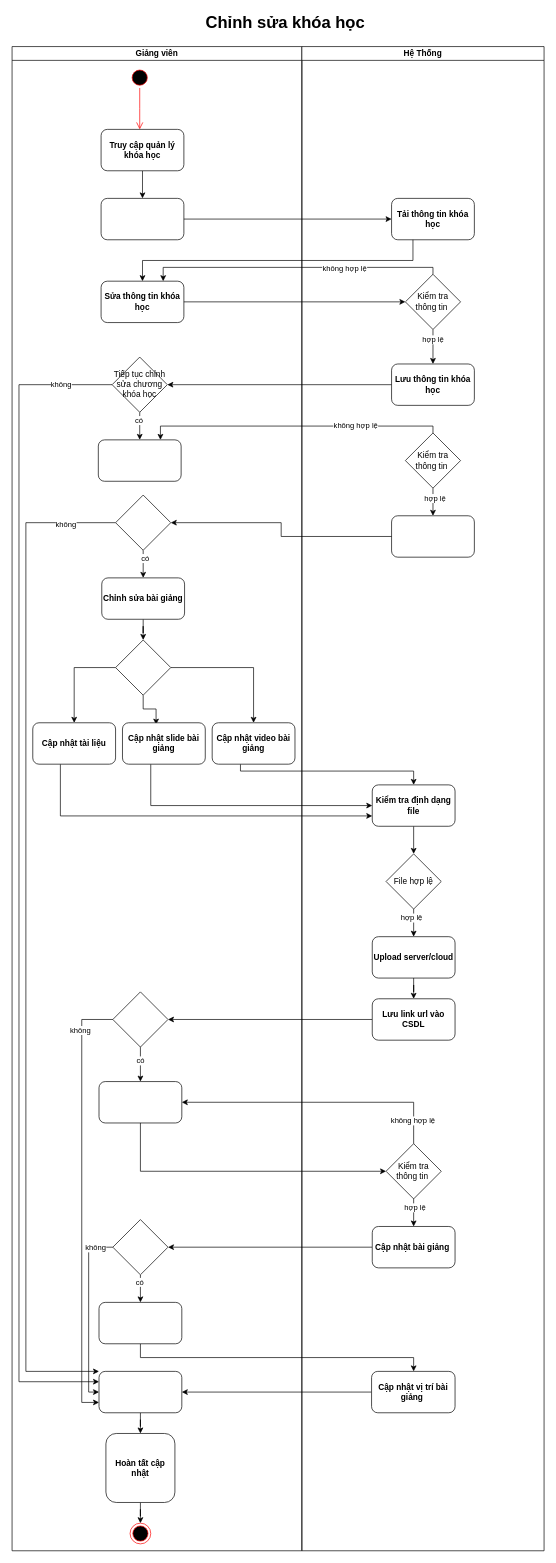
Image size: 556x1563. Some labels were removed from this diagram. The centre of each missing label's shape, as x and y in pixels:
Chỉnh sửa mô tả nội dung: (140,1102)
Chỉnh sửa tiêu đề/mô tả chương: (139,460)
Chọn khóa học cần chỉnh sửa: (142,219)
Chọn nội dung cần sửa: (143,667)
Cập nhật sắp xếp thứ tự bài giảng: (140,1323)
Cập nhật thông tin chương: (432,536)
Tiếp tục chỉnh sửa bài giảng: (143,522)
Tiếp tục chỉnh sửa mô tả nội dung: (140,1019)
Tiếp tục chỉnh sửa thứ tự bài giảng: (140,1247)
Xem trước khóa học: (140,1392)
